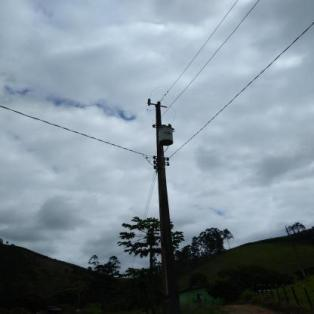Poste: (152, 98, 176, 310)
